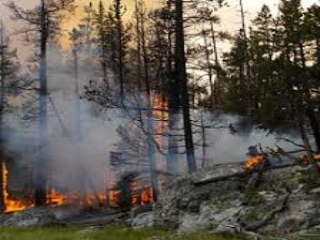fire: (1, 162, 30, 211), (47, 185, 71, 207), (244, 154, 265, 173)
smoke: (177, 99, 305, 160)
